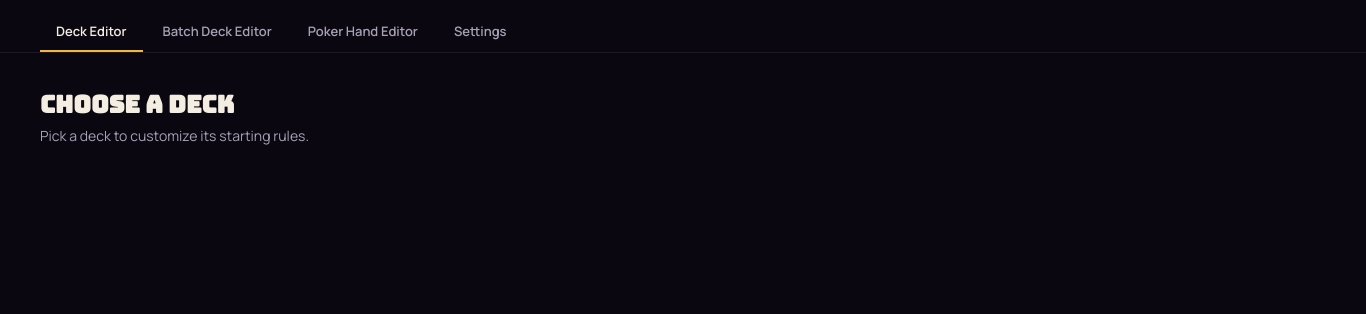
MainTabs › switches to the settings flow when its tab is clicked
Expected: the heading "Choose a deck" is shown, [40,89,234,120]
Click the tab "Settings" at {"x": 480, "y": 32}, box [438,12,522,52]
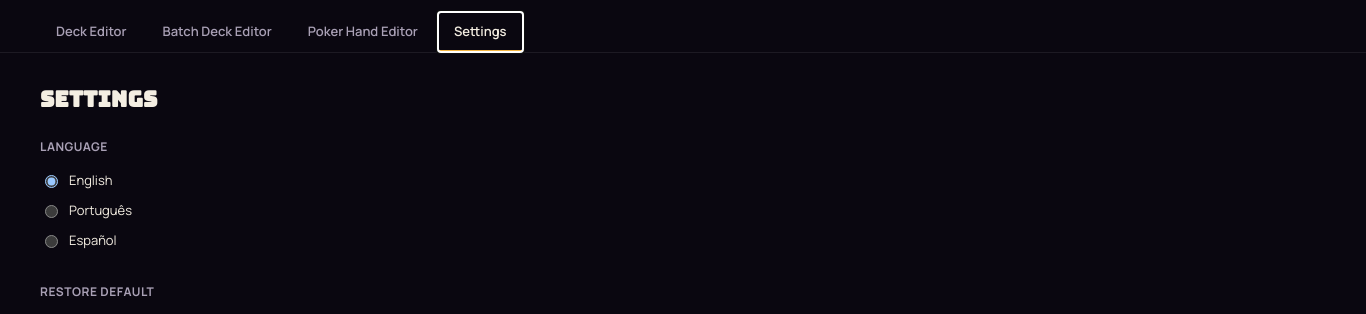
Now the element named "language" is shown, box [45,171,132,249]
